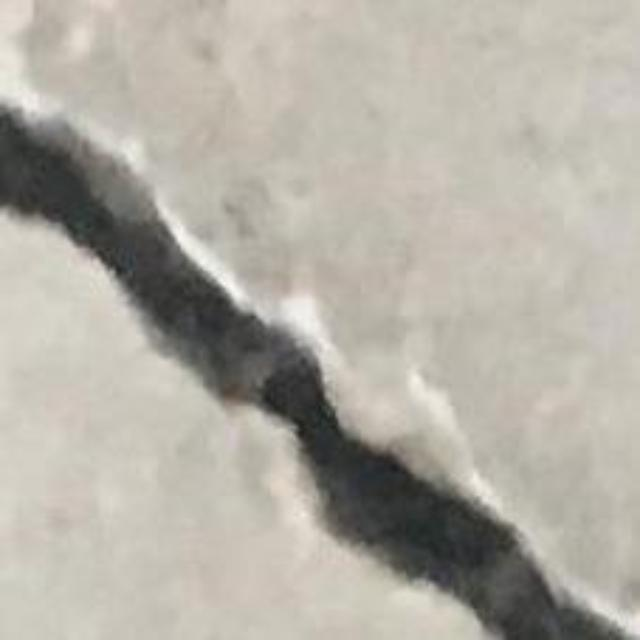crack: (0, 102, 639, 639)
